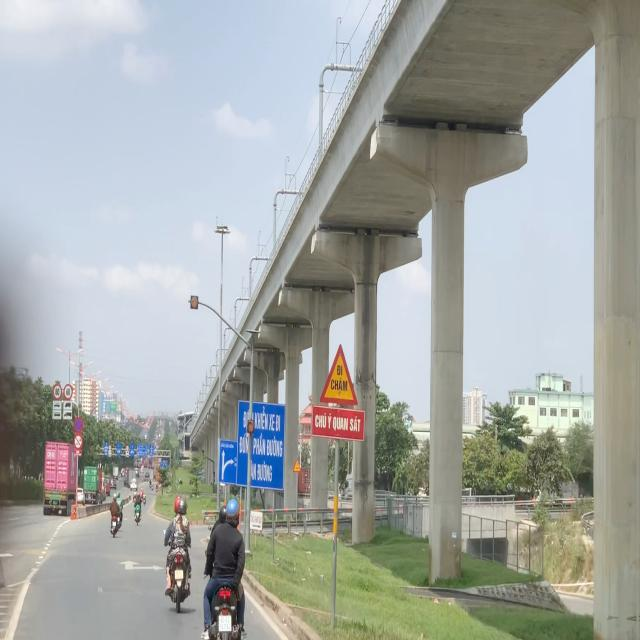Cam dung va do: (74, 417, 84, 433)
Nguy hiem: (319, 342, 360, 407)
Toc do toi da: (63, 382, 73, 399), (53, 383, 61, 399)
